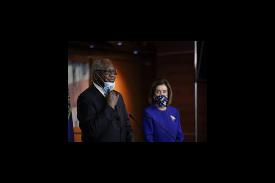mask_weared_incorrect: (102, 66, 119, 89)
with_mask: (155, 88, 168, 101)
